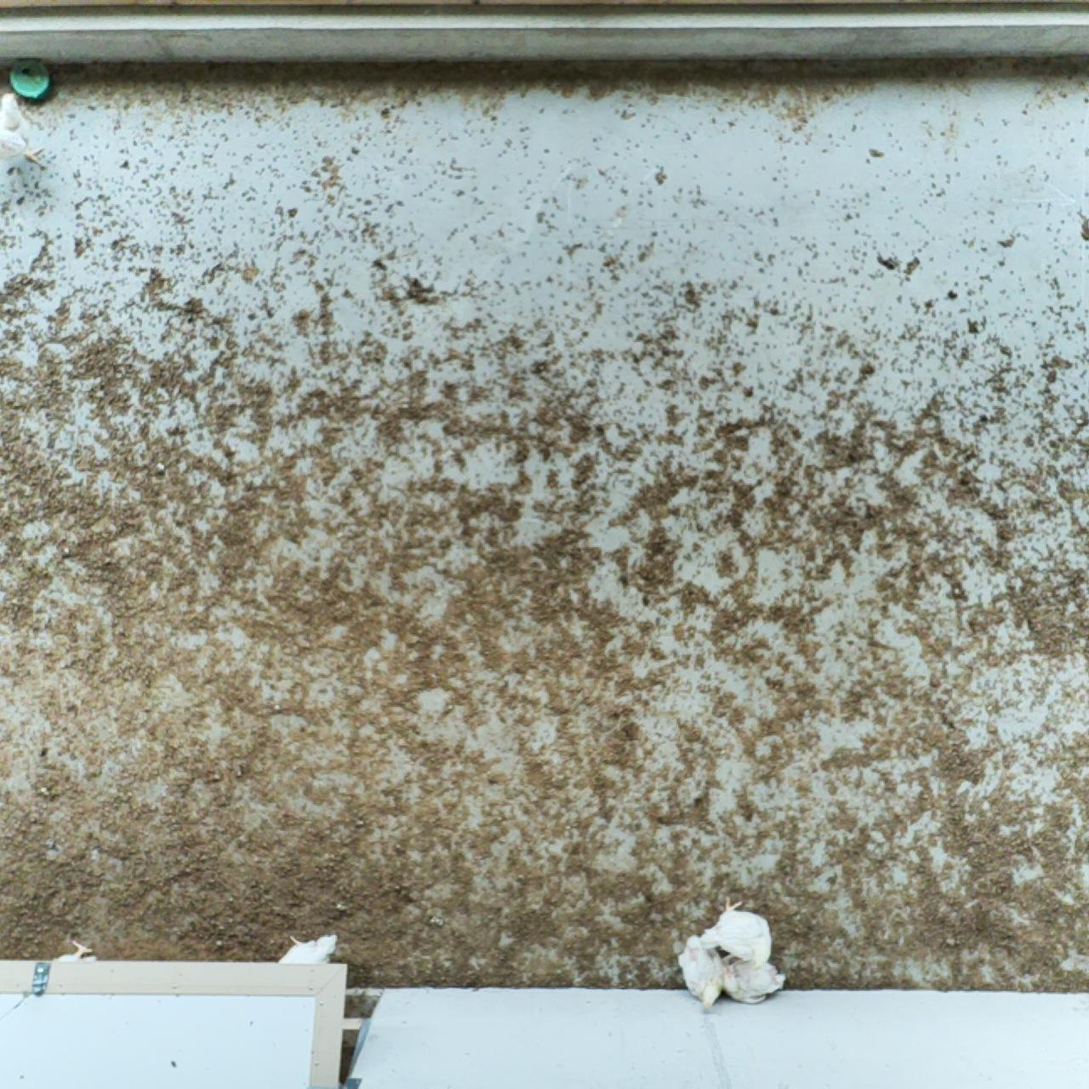chicken: (696, 895, 776, 966), (714, 952, 789, 1009), (676, 931, 728, 1012), (275, 931, 340, 967)
